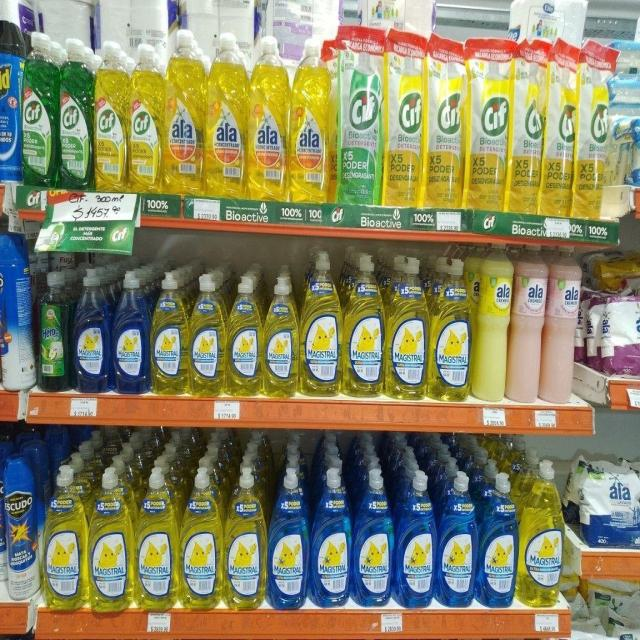ala_conc_amarillo: (163, 26, 204, 195), (206, 29, 246, 198), (289, 38, 330, 202), (248, 34, 288, 202)
ala_crem_rosado: (544, 242, 580, 404), (510, 242, 543, 406)
cif_conc_bot_amarilla: (94, 40, 127, 190), (129, 43, 162, 193)
cif_conc_botella_verde: (22, 30, 56, 187), (58, 36, 92, 190)
cif_conc_sachet_amarillo: (466, 39, 508, 211), (424, 35, 464, 209), (384, 30, 423, 208), (574, 43, 608, 219), (510, 41, 542, 215), (543, 41, 574, 218)
cif_conc_sachet_verde: (336, 29, 382, 205)
magistral_con_amarillo: (520, 458, 564, 608), (89, 466, 133, 612), (44, 465, 87, 611), (430, 256, 472, 402), (386, 255, 428, 401), (301, 250, 342, 398), (180, 467, 222, 610), (136, 467, 178, 610), (225, 465, 266, 611), (344, 252, 384, 398), (150, 269, 188, 395), (190, 272, 226, 396), (264, 273, 299, 397), (227, 273, 262, 397)
magistral_con_azul: (268, 466, 309, 610), (311, 465, 351, 608), (354, 467, 394, 608), (396, 470, 436, 609), (438, 469, 477, 609), (479, 470, 517, 608), (73, 267, 110, 393), (112, 269, 149, 394)
